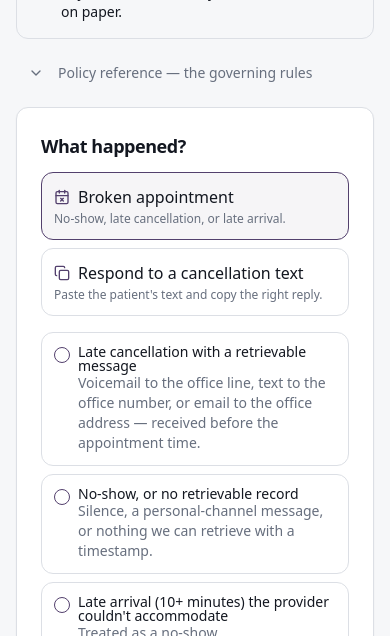
Test case: decision-first workspace › VIP toggle forces the Rung 5 stop with the holding reply only
Step 1. Click the radio button named "No-show, or no retrievable record" next to "No-show, or no retrievable record" → click(62, 497), box [54,489,70,505]
(page scrolled)
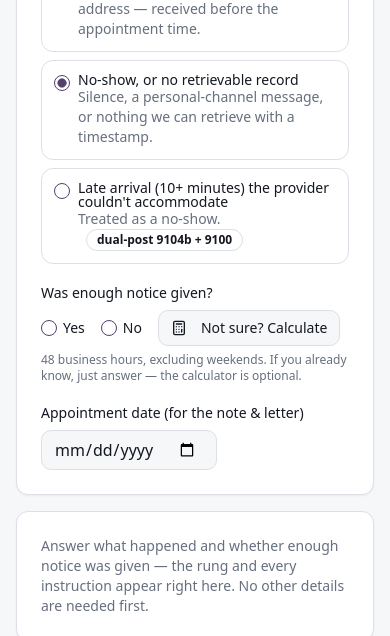
Step 2. Click the 5th radio button → click(109, 328), box [101,320,117,336]
(page scrolled)
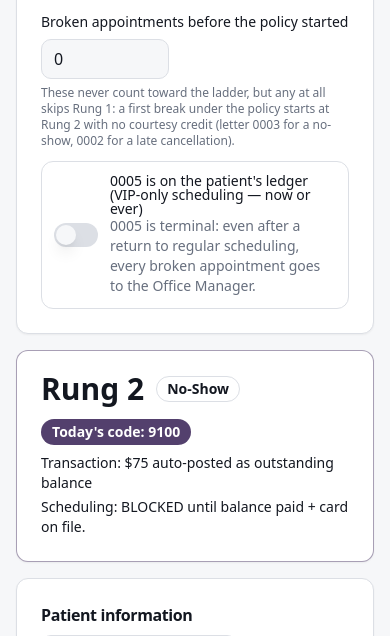
Step 3. Click the switch named "VIP-only scheduling" → click(76, 235), box [54,223,98,247]
(page scrolled)
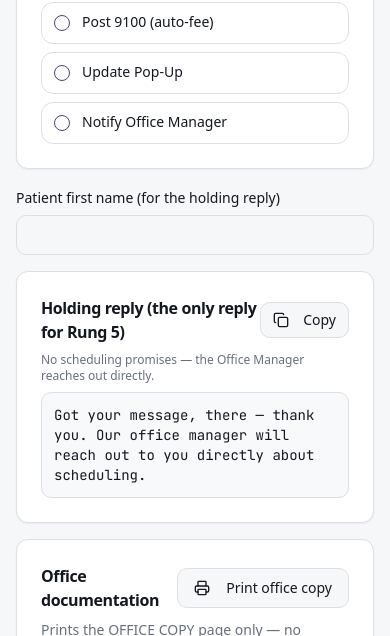
Step 4. Type "Ann" into the field labelled "Patient first name (for the holding reply)" → (195, 235), box [16,215,374,255]
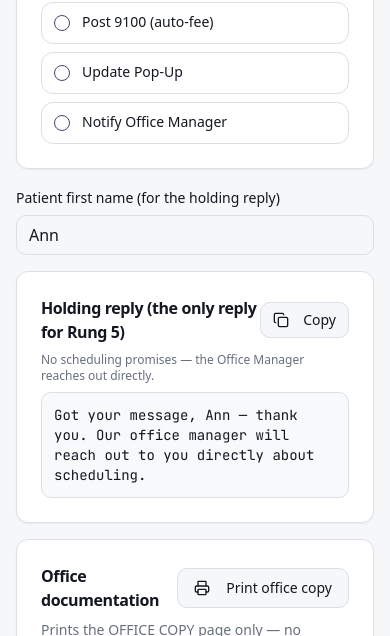
Now the text "Holding reply (the only reply for Rung 5)" is shown, box [41,296,260,344]
Now the button "Print office copy" is shown, box [177,568,349,608]
Now the text "Got your message, Ann" is shown, box [54,406,323,484]
